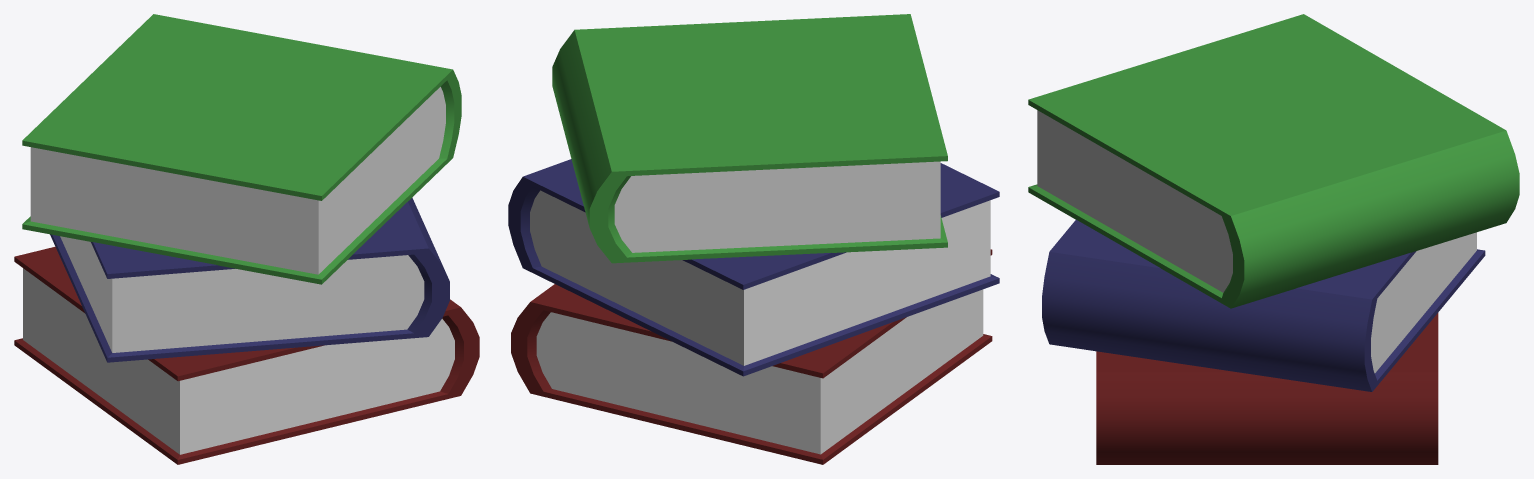
The model's file is TS_Book.fbx.
The picture shows the model from 3 angles, left to right: view 1: azimuth 30°, elevation 25°; view 2: azimuth 150°, elevation 25°; view 3: azimuth 270°, elevation 25°; orthographic projection. The views are drawn at different scales.
Parts seen in each view (by area): view 1: 立方体.002, 立方体, 立方体.001; view 2: 立方体.002, 立方体.001, 立方体; view 3: 立方体.002, 立方体.001, 立方体.
Boxes of the visible parts, x1,y1,x2,y2 form: 立方体.002: [22, 14, 461, 284]; 立方体: [14, 246, 479, 464]; 立方体.001: [50, 197, 449, 362]; 立方体.002: [552, 14, 947, 263]; 立方体.001: [508, 159, 999, 376]; 立方体: [511, 249, 992, 464]; 立方体.002: [1028, 14, 1519, 308]; 立方体.001: [1042, 219, 1485, 391]; 立方体: [1096, 313, 1438, 464].
Size of the model in its own units: 290 by 179 by 287.
